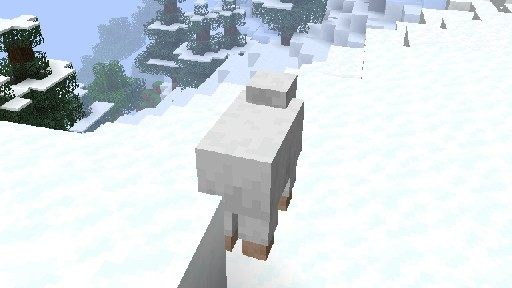sheep: (194, 68, 304, 270)
